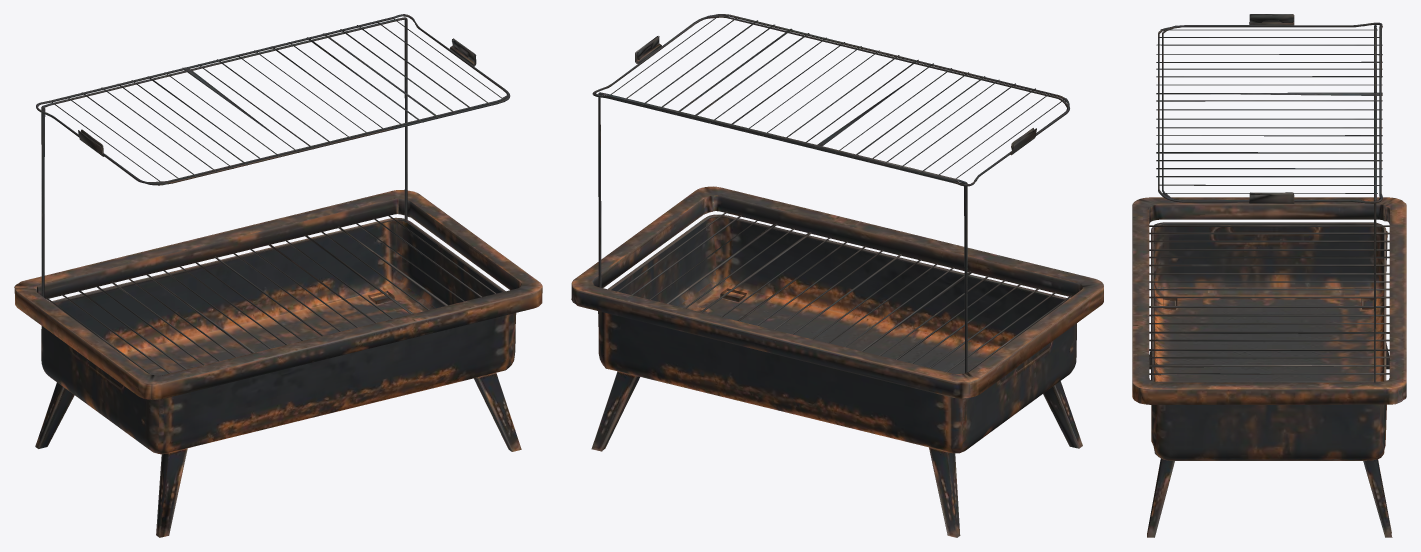
Rendered from mangal.glb.
The picture shows the model from 3 angles, left to right: view 1: azimuth 30°, elevation 25°; view 2: azimuth 150°, elevation 25°; view 3: azimuth 270°, elevation 25°; orthographic projection. The views are drawn at different scales.
Size of the model in its own units: 0.9497 by 0.8027 by 0.5728.
Materials: 1 (1 with a texture image).
